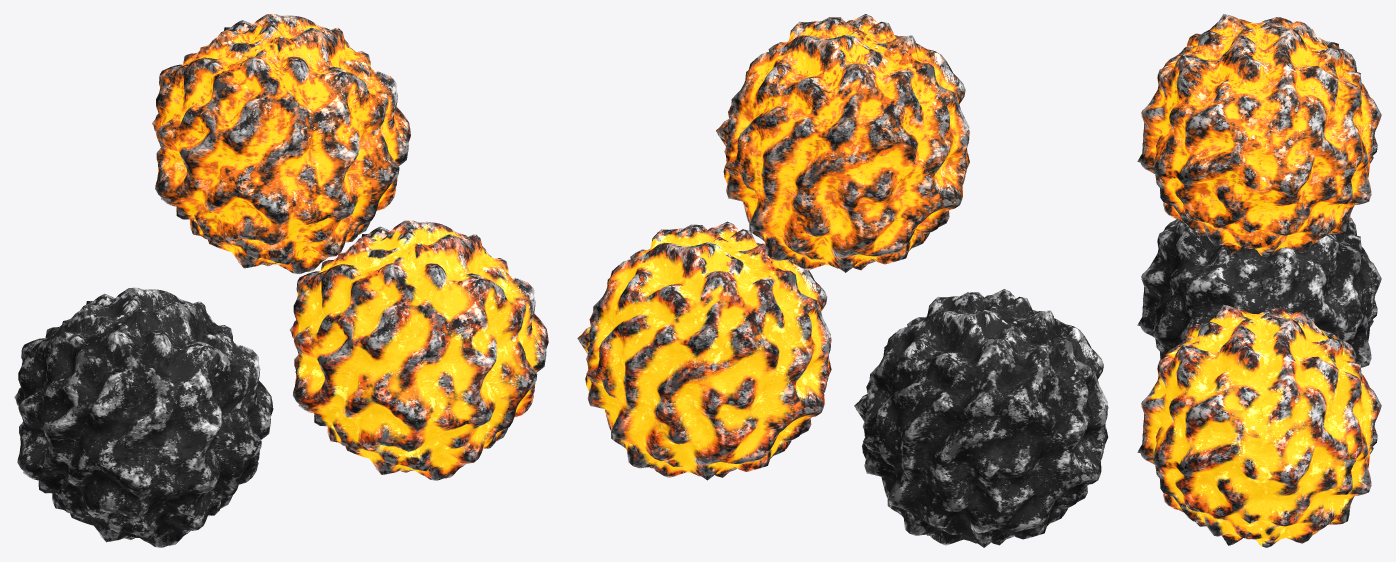
File: free_asteroid_ball.glb
3 views of the same model, side by side, from view 1: azimuth 30°, elevation 25°; view 2: azimuth 150°, elevation 25°; view 3: azimuth 270°, elevation 25° (orthographic). The views are drawn at different scales.
Visible parts, largest first — view 1: Asteroid_3, Asteroid_2, Asteroid_1; view 2: Asteroid_2, Asteroid_1, Asteroid_3; view 3: Asteroid_3, Asteroid_2, Asteroid_1.
Part boxes in pixels (<box>): Asteroid_3: <box>290,220,548,480</box>; Asteroid_2: <box>152,14,410,274</box>; Asteroid_1: <box>14,287,273,547</box>; Asteroid_2: <box>716,14,969,272</box>; Asteroid_1: <box>854,289,1108,547</box>; Asteroid_3: <box>577,221,831,480</box>; Asteroid_3: <box>1137,304,1381,547</box>; Asteroid_2: <box>1137,14,1381,257</box>; Asteroid_1: <box>1137,217,1381,367</box>.
Size of the model in its own units: 55.2 by 49.05 by 24.4.
Materials: 3 (3 with a texture image).
